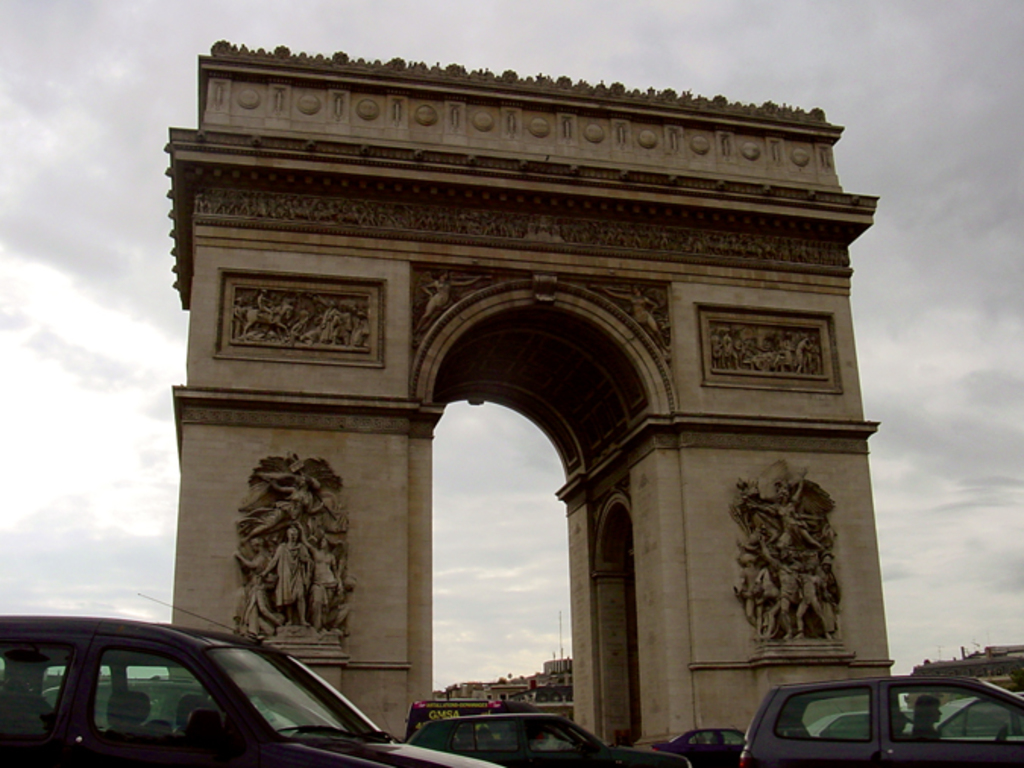Car: (0, 594, 503, 764), (737, 670, 1022, 766), (400, 707, 640, 766), (641, 720, 746, 766), (926, 693, 1022, 740), (800, 707, 923, 733)
